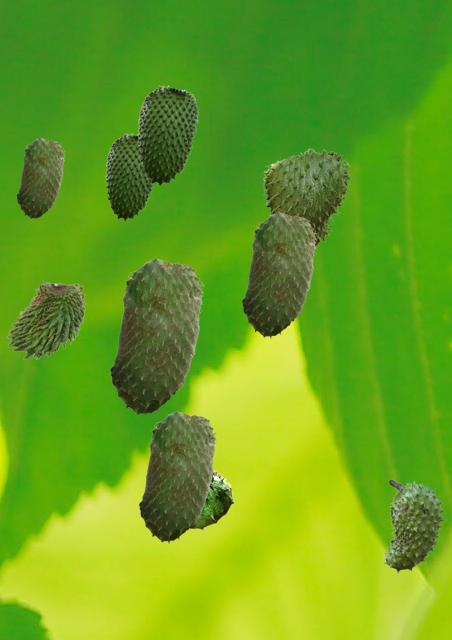guyabano: (109, 257, 203, 415), (138, 410, 216, 542), (241, 211, 316, 337), (263, 148, 351, 249), (6, 279, 85, 358), (382, 479, 446, 573), (137, 85, 197, 185), (105, 133, 153, 220), (16, 137, 64, 218), (187, 469, 233, 531)
